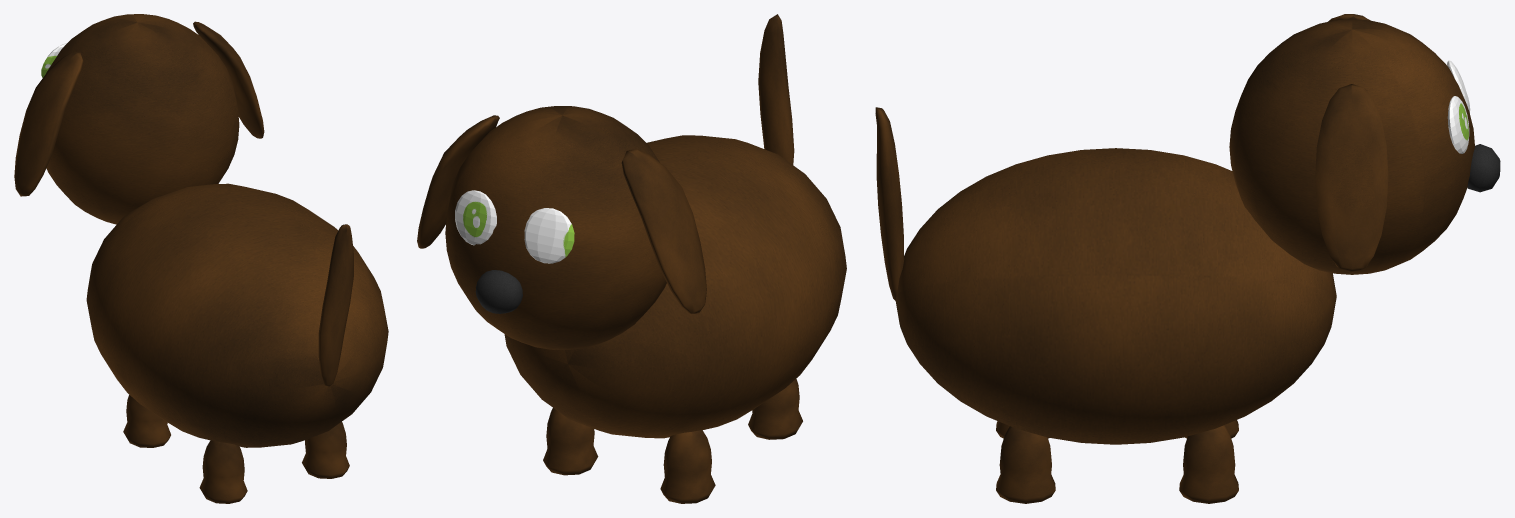
The model's file is Dog.fbx.
3 renders of one model, left to right at view 1: azimuth 30°, elevation 25°; view 2: azimuth 150°, elevation 25°; view 3: azimuth 270°, elevation 25°, orthographic. The views are drawn at different scales.
Visible parts, largest first — view 1: pSphere1, pSphere2, pasted__pasted__pSphere3, pasted__pSphere3, pasted__pasted__pasted__pSphere4 (×2), pasted__pasted__pasted__pasted__pSphere4, pasted__pasted__pasted__pSphere3; view 2: pSphere1, pSphere2, pasted__pasted__pSphere3, pasted__pSphere3, pasted__pasted__pasted__pSphere4, pasted__pasted__pasted__pSphere3, pasted__pasted__pSphere4, pasted__pSphere4, pasted__pasted__pasted__pasted__pSphere4, pSphere4, pSphere3; view 3: pSphere1, pSphere2, pasted__pasted__pasted__pSphere3, pasted__pasted__pSphere4, pasted__pasted__pasted__pSphere4, pasted__pSphere3, pSphere3, pSphere4.
Part boxes in pixels (left/top/right/bottom): pSphere1: left=86, top=183, right=388, bottom=447; pSphere2: left=46, top=14, right=239, bottom=224; pasted__pasted__pSphere3: left=14, top=52, right=83, bottom=196; pasted__pSphere3: left=318, top=224, right=353, bottom=386; pasted__pasted__pasted__pSphere4 (×2): left=123, top=394, right=349, bottom=478; pasted__pasted__pasted__pasted__pSphere4: left=199, top=440, right=247, bottom=503; pasted__pasted__pasted__pSphere3: left=193, top=21, right=264, bottom=138; pSphere1: left=504, top=135, right=846, bottom=438; pSphere2: left=445, top=106, right=666, bottom=349; pasted__pasted__pSphere3: left=621, top=149, right=706, bottom=313; pasted__pSphere3: left=758, top=14, right=794, bottom=164; pasted__pasted__pasted__pSphere4: left=660, top=430, right=715, bottom=503; pasted__pasted__pasted__pSphere3: left=417, top=115, right=499, bottom=248; pasted__pasted__pSphere4: left=543, top=408, right=598, bottom=475; pasted__pSphere4: left=524, top=208, right=574, bottom=263; pasted__pasted__pasted__pasted__pSphere4: left=748, top=378, right=802, bottom=439; pSphere4: left=455, top=190, right=496, bottom=245; pSphere3: left=475, top=270, right=522, bottom=313; pSphere1: left=895, top=148, right=1336, bottom=444; pSphere2: left=1229, top=19, right=1474, bottom=274; pasted__pasted__pasted__pSphere3: left=1315, top=84, right=1388, bottom=272; pasted__pasted__pSphere4: left=1179, top=425, right=1238, bottom=503; pasted__pasted__pasted__pSphere4: left=996, top=426, right=1055, bottom=503; pasted__pSphere3: left=875, top=107, right=904, bottom=300; pSphere3: left=1467, top=144, right=1500, bottom=192; pSphere4: left=1447, top=96, right=1469, bottom=153.
Bounding box in the file's own units: 1.18 × 1.71 × 2.2.
Materials: 3 (3 with a texture image).
